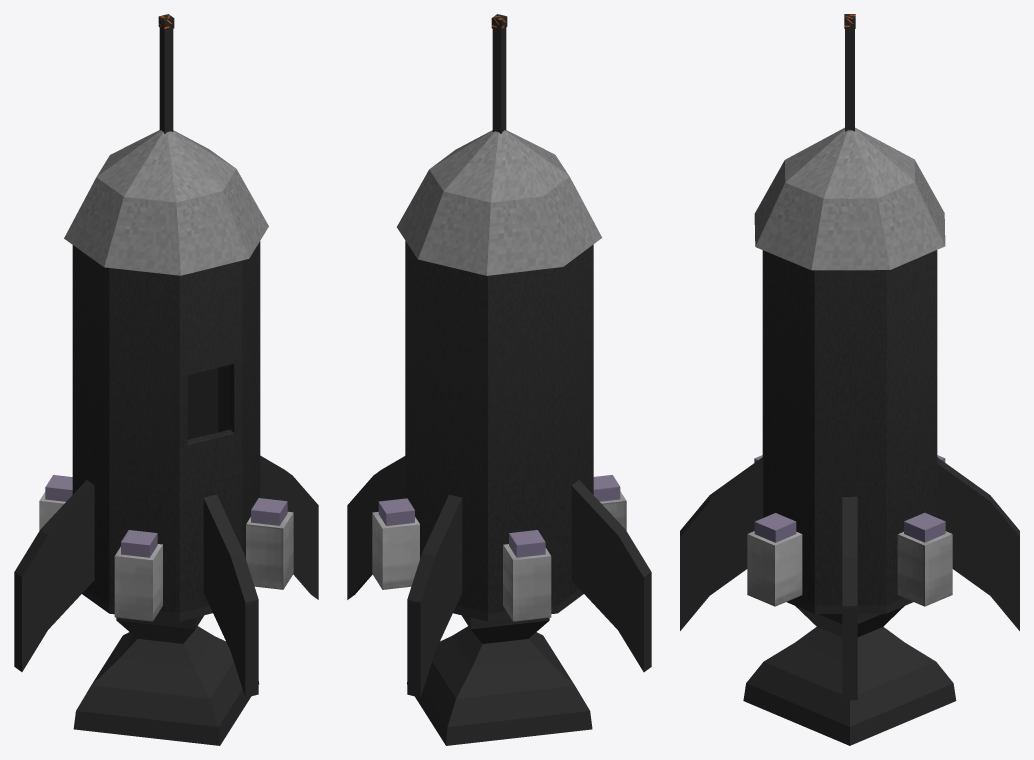
File: tier_4_rocket.obj
3 renders of one model, left to right at view 1: azimuth 30°, elevation 25°; view 2: azimuth 150°, elevation 25°; view 3: azimuth 270°, elevation 25°, orthographic.
Visible parts, largest first — view 1: Rocket, NoseCone, Boosters; view 2: Rocket, NoseCone, Boosters; view 3: Rocket, NoseCone, Boosters.
Boxes of the visible parts, x1=… form: Rocket: x1=14, y1=27, x2=318, y2=745; NoseCone: x1=64, y1=130, x2=268, y2=275; Boosters: x1=39, y1=475, x2=293, y2=621; Rocket: x1=347, y1=27, x2=651, y2=745; NoseCone: x1=397, y1=130, x2=602, y2=275; Boosters: x1=372, y1=475, x2=626, y2=621; Rocket: x1=680, y1=29, x2=1019, y2=745; NoseCone: x1=754, y1=127, x2=945, y2=270; Boosters: x1=747, y1=455, x2=952, y2=606.
Size of the model in its own units: 3.61 by 8.02 by 3.61.
